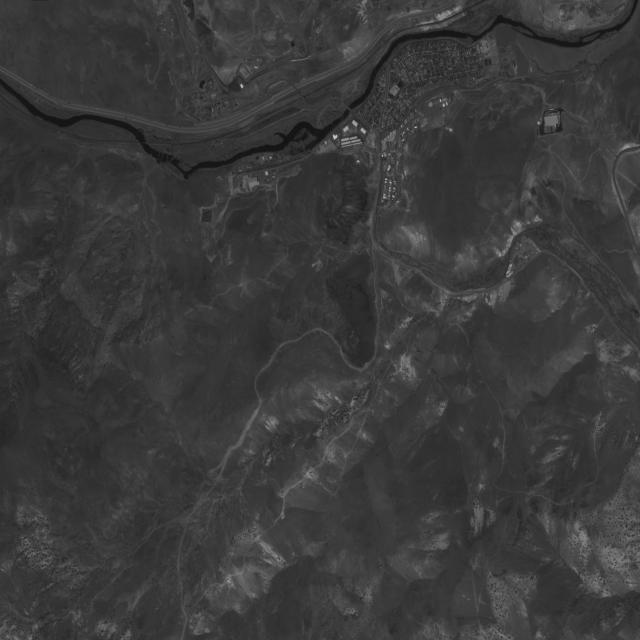storage-tank: (537, 121, 541, 125), (450, 128, 453, 132), (446, 127, 448, 129)
